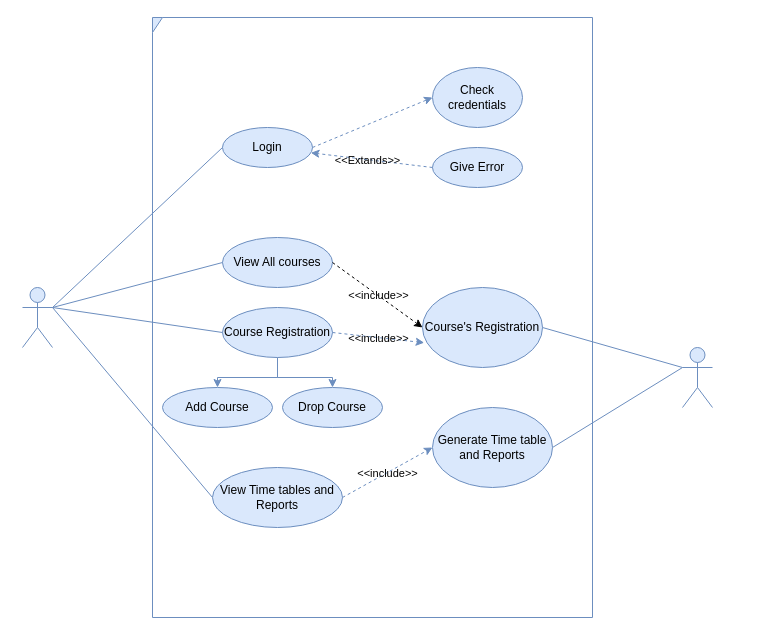
Image size: 767x635. Some labels were removed from this diagram. The centre of each missing label's shape, as x and y in pixels:
"Course Coordinator" belongs at pixel 697 377.
"Student" belongs at pixel 37 317.
